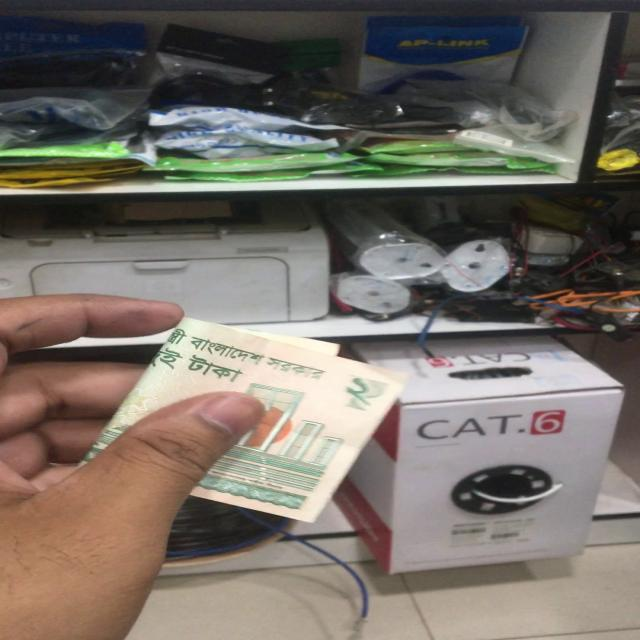Taka: (156, 307, 379, 528)
